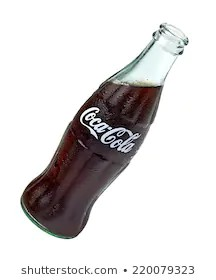coke-glass-bottle: (17, 21, 195, 238)
